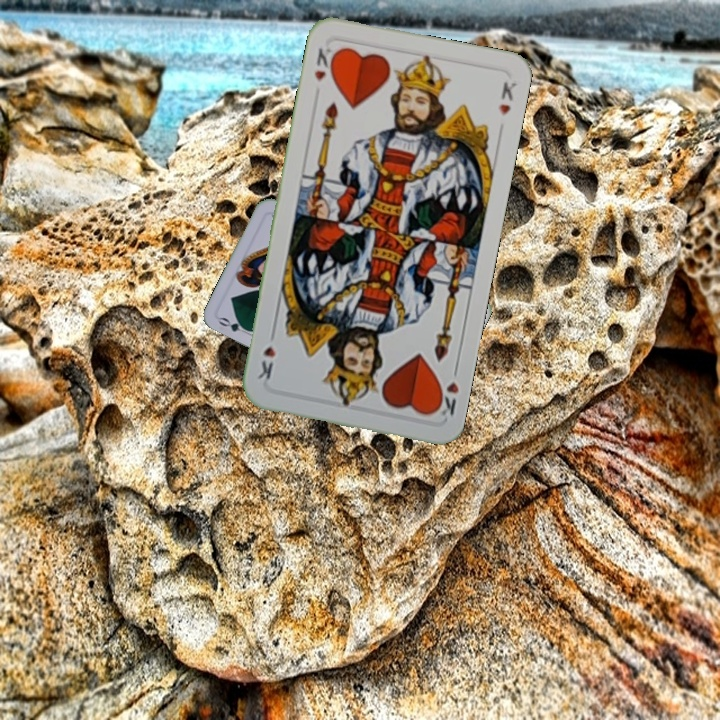GO: (215, 313, 255, 338)
HK: (430, 361, 462, 419), (310, 43, 339, 84)
